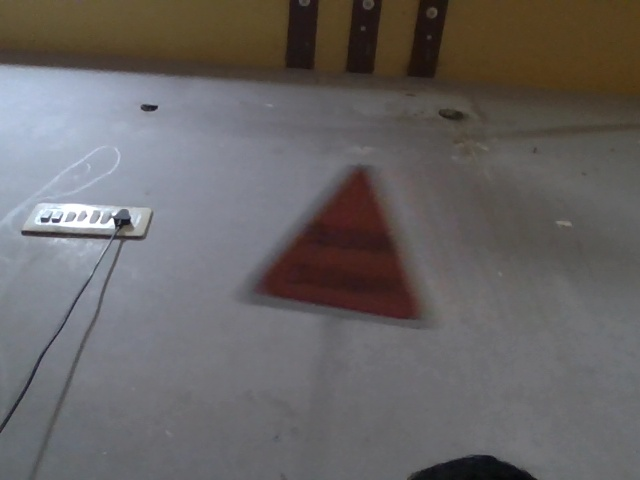slowdown: (233, 167, 428, 326)
